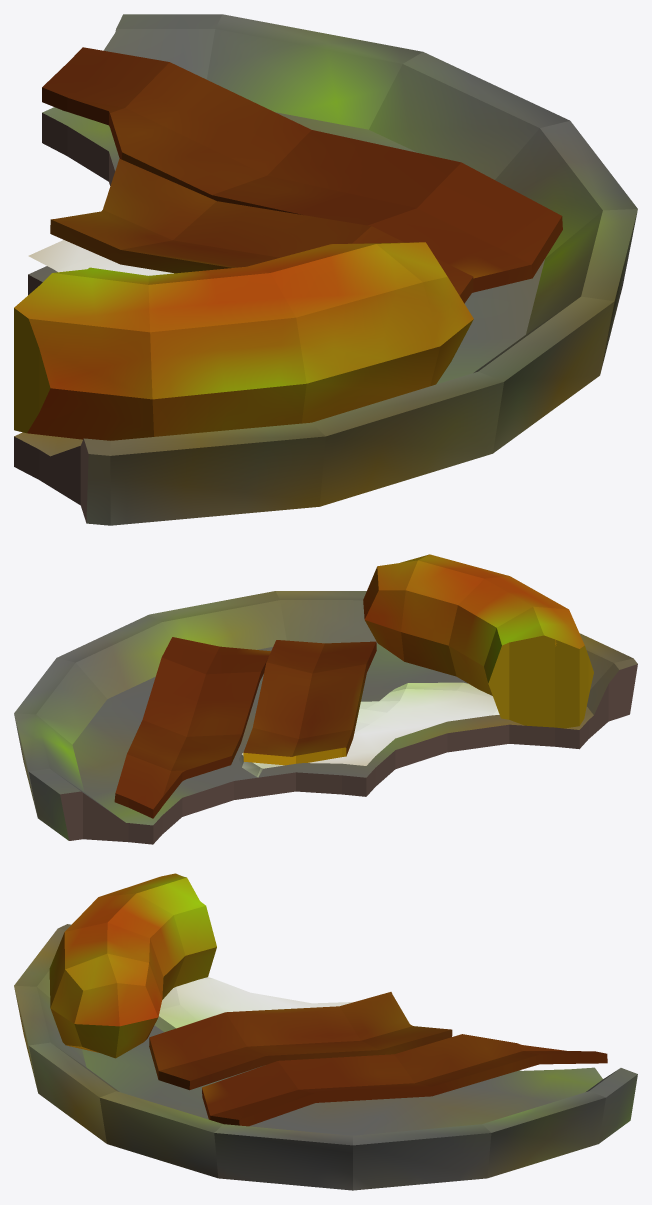
File: cafe da manha.fbx
3 views of the same model, one above another, from view 1: azimuth 30°, elevation 25°; view 2: azimuth 150°, elevation 25°; view 3: azimuth 270°, elevation 25° (orthographic). The views are drawn at different scales.
Visible parts, largest first — view 1: CoockieMan.004; view 2: CoockieMan.004; view 3: CoockieMan.004.
Boxes of the visible parts, bbox=[...] form: CoockieMan.004: bbox=[14, 14, 637, 525]; CoockieMan.004: bbox=[14, 554, 637, 844]; CoockieMan.004: bbox=[14, 873, 637, 1190].
Size of the model in its own units: 190 by 48.02 by 226.
1 material, 1 textured.
